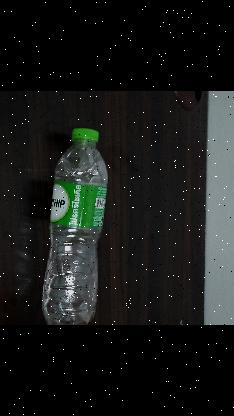Plastic Bottle: (38, 121, 110, 325)
